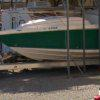Boat: (1, 11, 95, 76)
